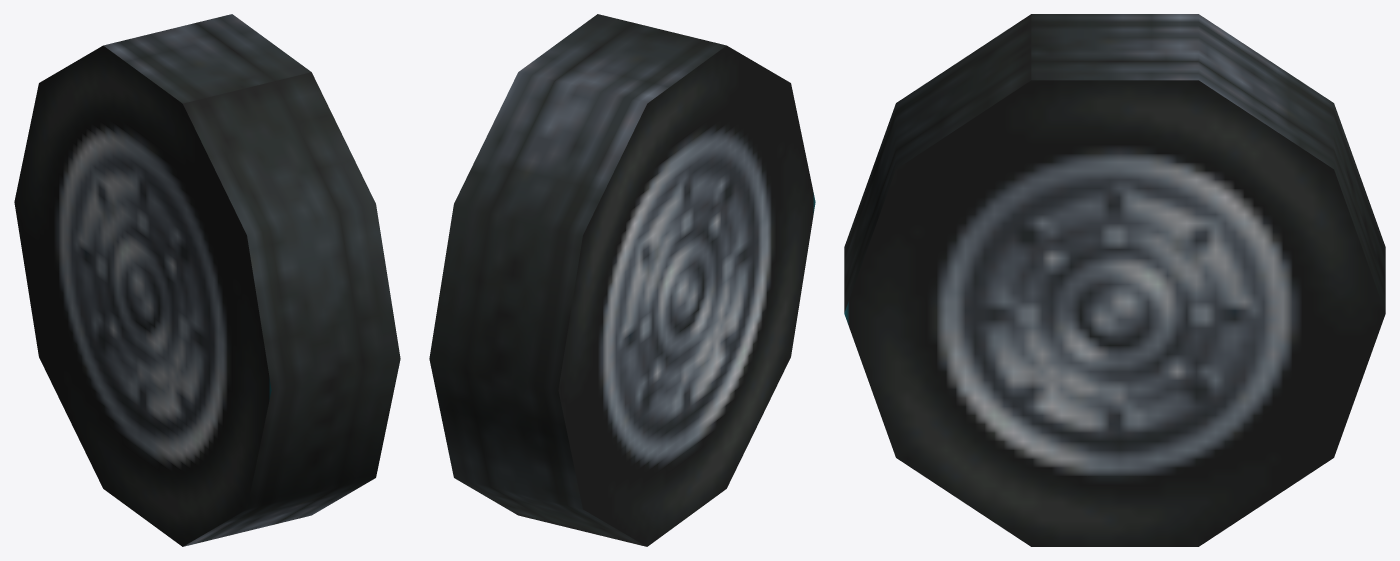
The model's file is car_BL.FBX.
3 views of the same model, side by side, from view 1: azimuth 30°, elevation 25°; view 2: azimuth 150°, elevation 25°; view 3: azimuth 270°, elevation 25° (orthographic). The views are drawn at different scales.
Visible parts, largest first — view 1: car_BL; view 2: car_BL; view 3: car_BL.
Boxes of the visible parts, x1,y1,x2,y2 form: car_BL: (14,14,400,546); car_BL: (429,14,815,546); car_BL: (844,14,1385,546).
Bounding box in the file's own units: 26.02 × 85.41 × 89.81.
1 material, 1 textured.
